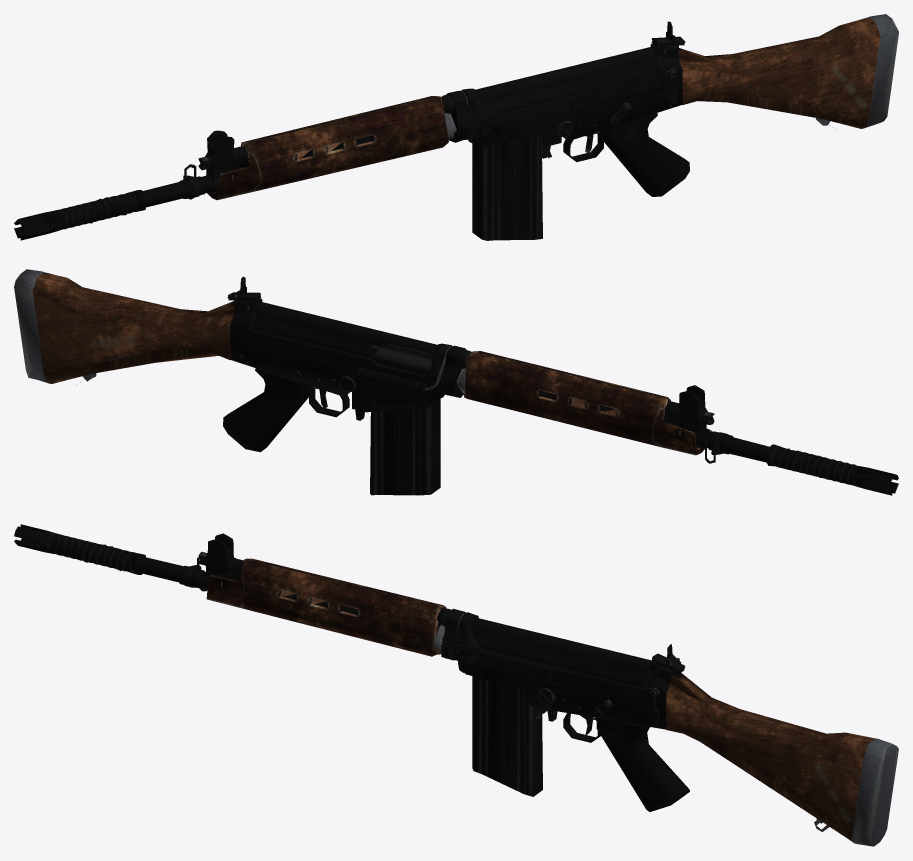
Rendered from ppl_fal.glb.
3 renders of one model, top to bottom at view 1: azimuth 30°, elevation 25°; view 2: azimuth 150°, elevation 25°; view 3: azimuth 330°, elevation 25°, orthographic.
Parts seen in each view (by area): view 1: Cube.000, Cube.005, Cube.003, Cube.001, Cylinder; view 2: Cube.000, Cube.005, Cube.003, Cube.001, Cylinder; view 3: Cube.000, Cube.005, Cube.003, Cube.001, Cylinder.
Part boxes in pixels (x1,y1,x2,y2): Cube.000: (143,21,689,207); Cube.005: (678,14,898,129); Cube.003: (207,96,456,200); Cube.001: (472,135,542,240); Cylinder: (14,190,146,240); Cube.000: (223,276,769,463); Cube.005: (14,269,234,384); Cube.003: (456,351,704,455); Cube.001: (370,365,440,495); Cylinder: (766,444,898,495); Cube.000: (137,533,689,811); Cube.005: (666,672,898,846); Cube.003: (206,558,446,656); Cube.001: (472,676,542,796); Cylinder: (14,524,145,574).
Bounding box in the file's own units: 2.09 × 0.4158 × 0.1665.
Materials: 5 (5 with a texture image).
